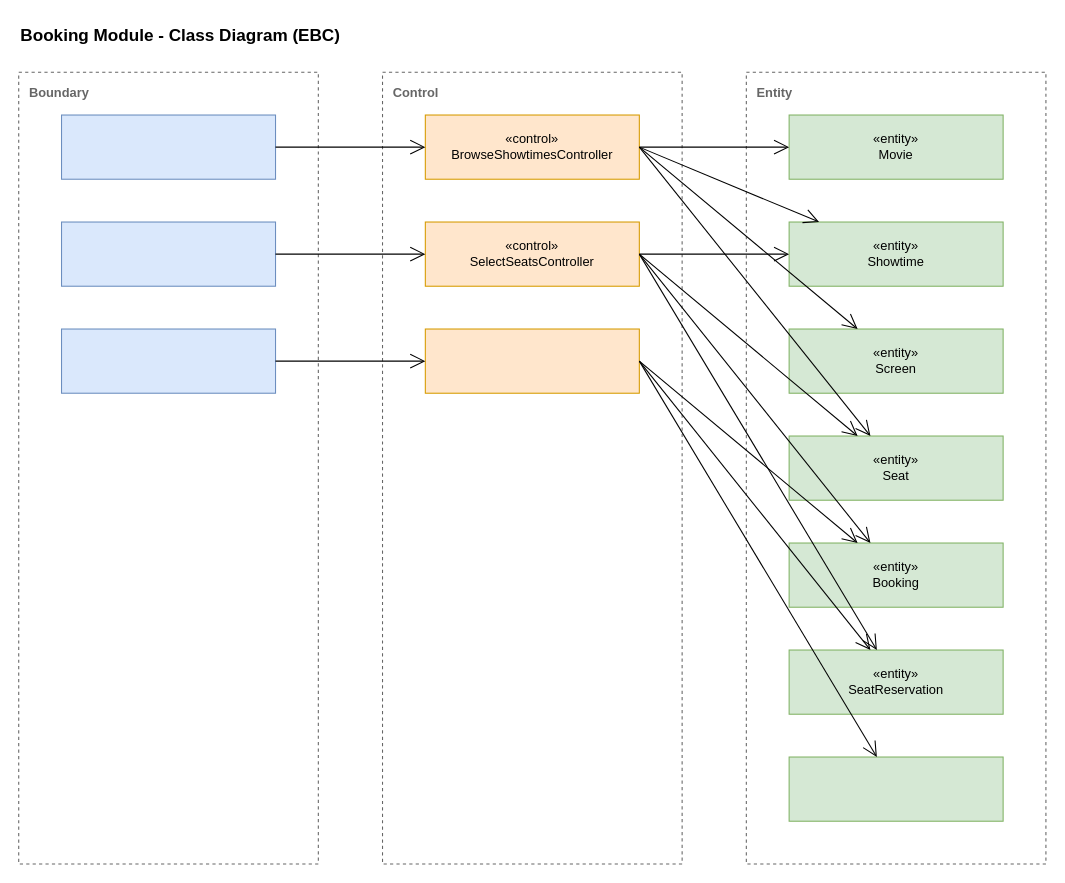
Some shapes in this 1065 by 883 pixel diagram are drawn without their labels. Here are the shapes that lost their labels. From the top down, the centre of each, then its label:
At point (168, 146): "«boundary» BrowseShowtimesView".
At point (168, 253): "«boundary» SeatSelectionView".
At point (168, 360): "«boundary» CancelBookingView".
At point (531, 360): "«control» CancelBookingController".
At point (895, 788): "«entity» Payment".
